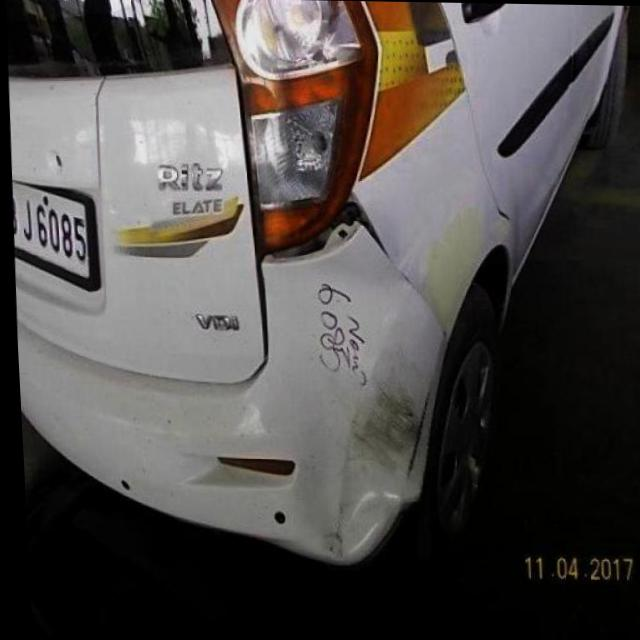Car-Damage: (319, 344, 435, 564), (255, 183, 389, 280), (407, 198, 493, 338)
